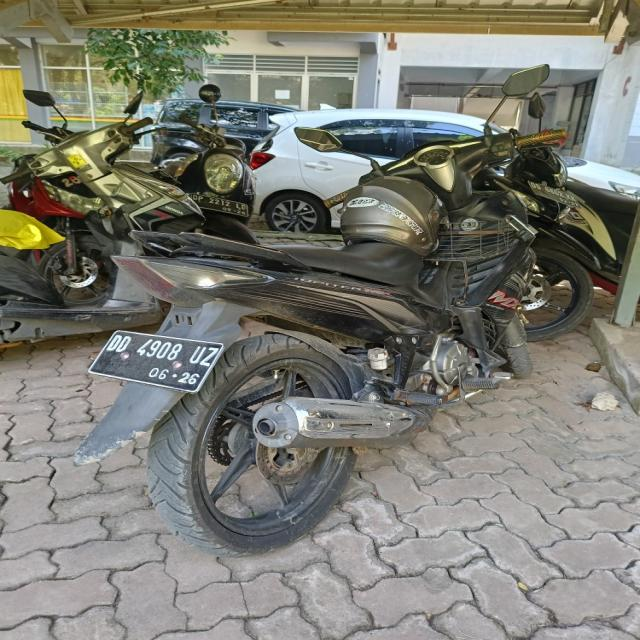plates: (90, 330, 216, 392)
